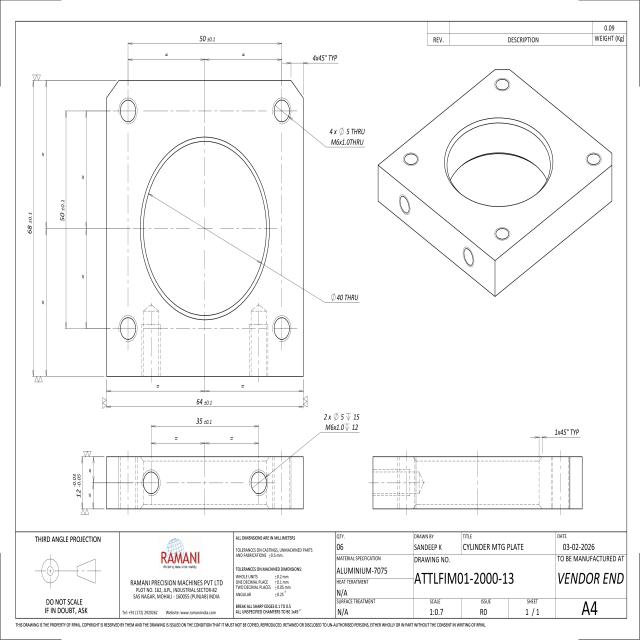dimension: (322, 410, 360, 433), (328, 126, 366, 147), (331, 291, 360, 304), (553, 426, 581, 437), (312, 53, 338, 62), (72, 472, 81, 497), (199, 34, 216, 45), (59, 199, 66, 223), (195, 417, 213, 425), (27, 211, 33, 235), (196, 398, 213, 406)
